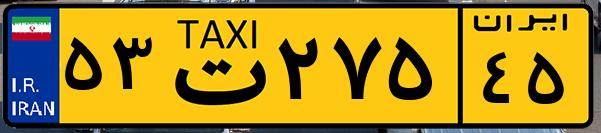2: (270, 28, 330, 110)
3: (110, 28, 158, 98)
4: (475, 38, 525, 113)
5: (385, 28, 445, 110), (57, 26, 110, 100), (525, 38, 570, 115)
7: (330, 28, 385, 110)
ت: (158, 12, 270, 120)
